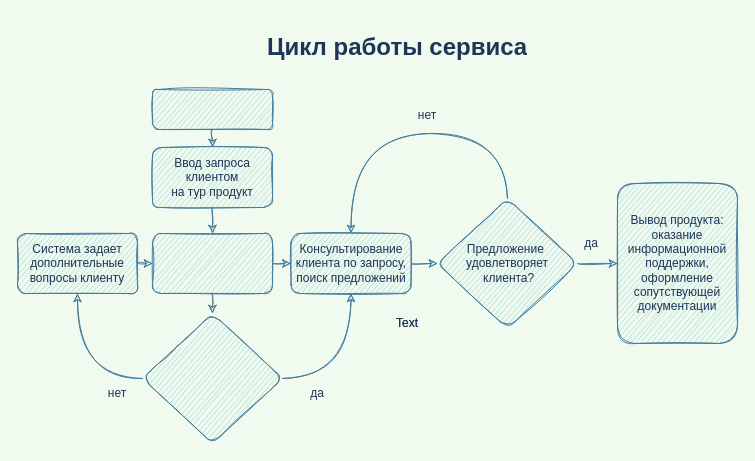
Some shapes in this 755 by 461 pixel diagram are drawn without their labels. The shapes that lost their labels are listed below. From the top down, each one's centre as x and y in pixels, then its label:
At (212,109): "Запуск сервиса".
At (212,263): "Анализ системой запроса клиента".
At (212,378): "Информации достаточно, чтобы система назначила консультанта?".
